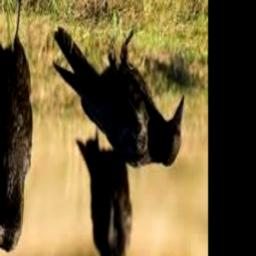Crow: (53, 25, 185, 169), (0, 0, 33, 253), (76, 124, 131, 256)
